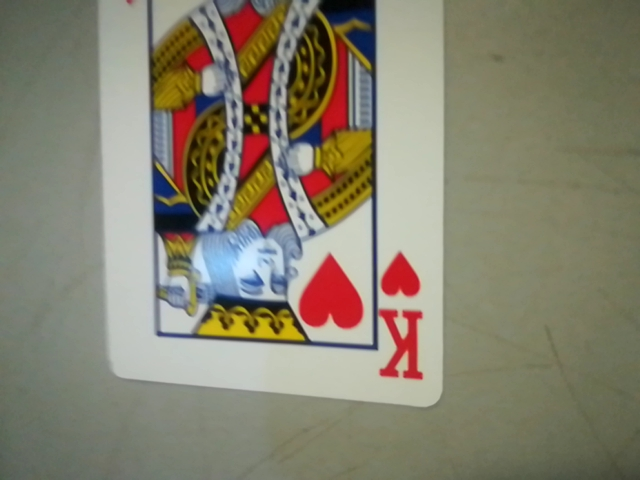hx k: (371, 247, 437, 392)
